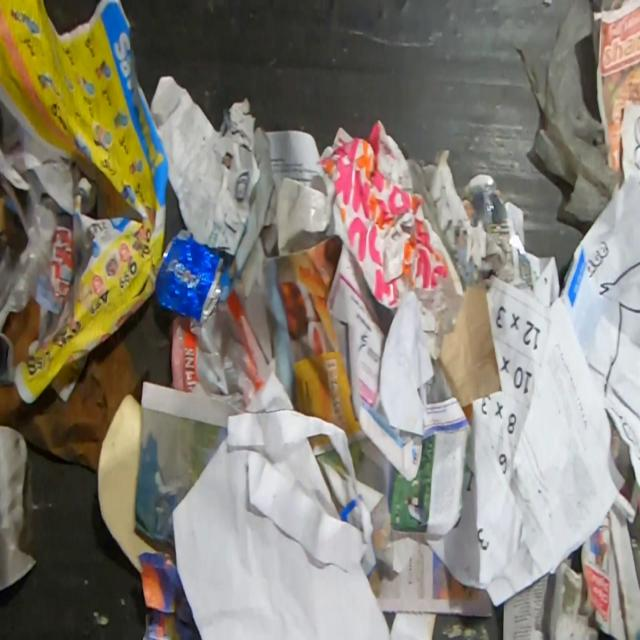cardboard: (0, 327, 143, 472), (0, 294, 41, 369)
metal: (156, 229, 228, 323)
soft_plastic: (512, 0, 617, 225), (171, 292, 269, 405)
